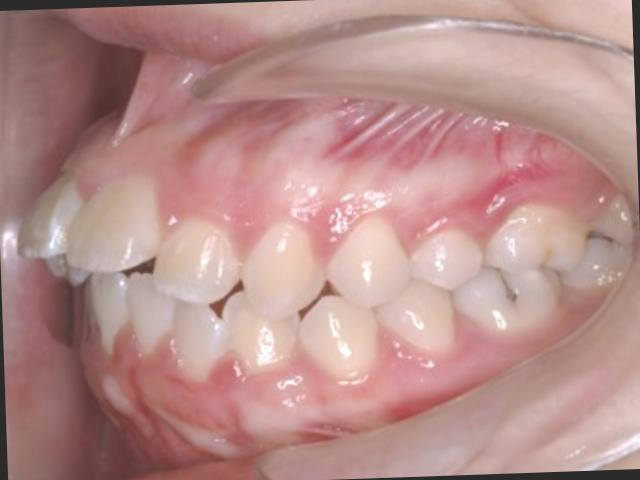canine class II 1/4: (218, 199, 386, 396)
molar class III 1/2: (452, 198, 620, 345)
